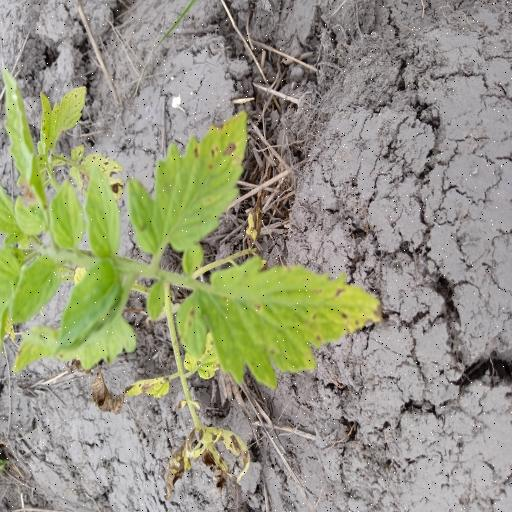Tomato_Brown_Spots: (178, 256, 384, 396), (131, 106, 250, 262)
